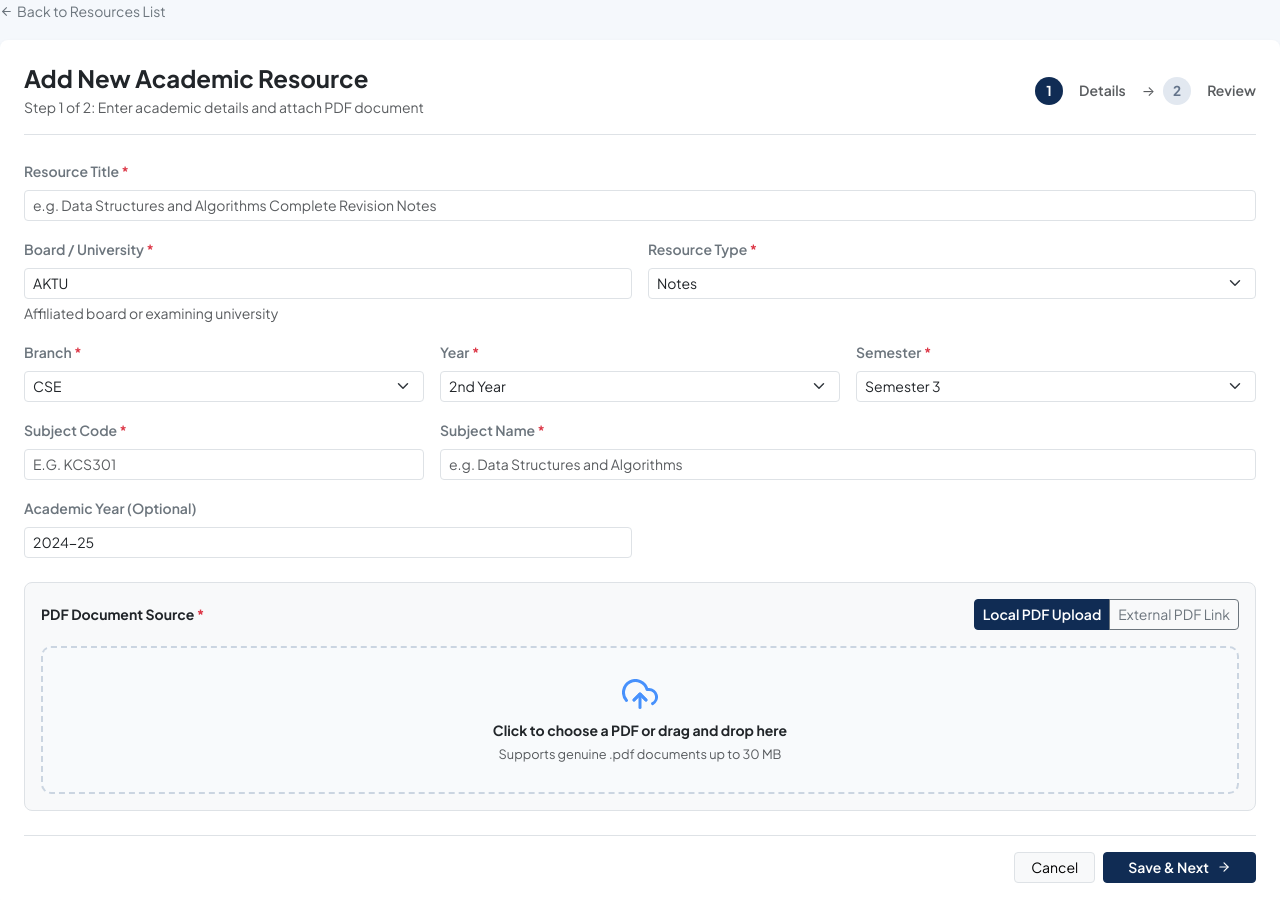
Scenario: Admin Panel Layout & Workflows › E: AdminResourceFormPage Two-Step Workflow › validates Step 1 and transitions to Step 2 Review when fields are filled
Note: Fill in required fields
Type "Computer Networks Full Notes" into the field labelled "Resource Title *".
click(640, 205); type("Computer Networks Full Notes")  # box [24,190,1256,221]
Type "KCS603" into the field labelled "Subject Code *".
click(224, 464); type("KCS603")  # box [24,449,424,480]
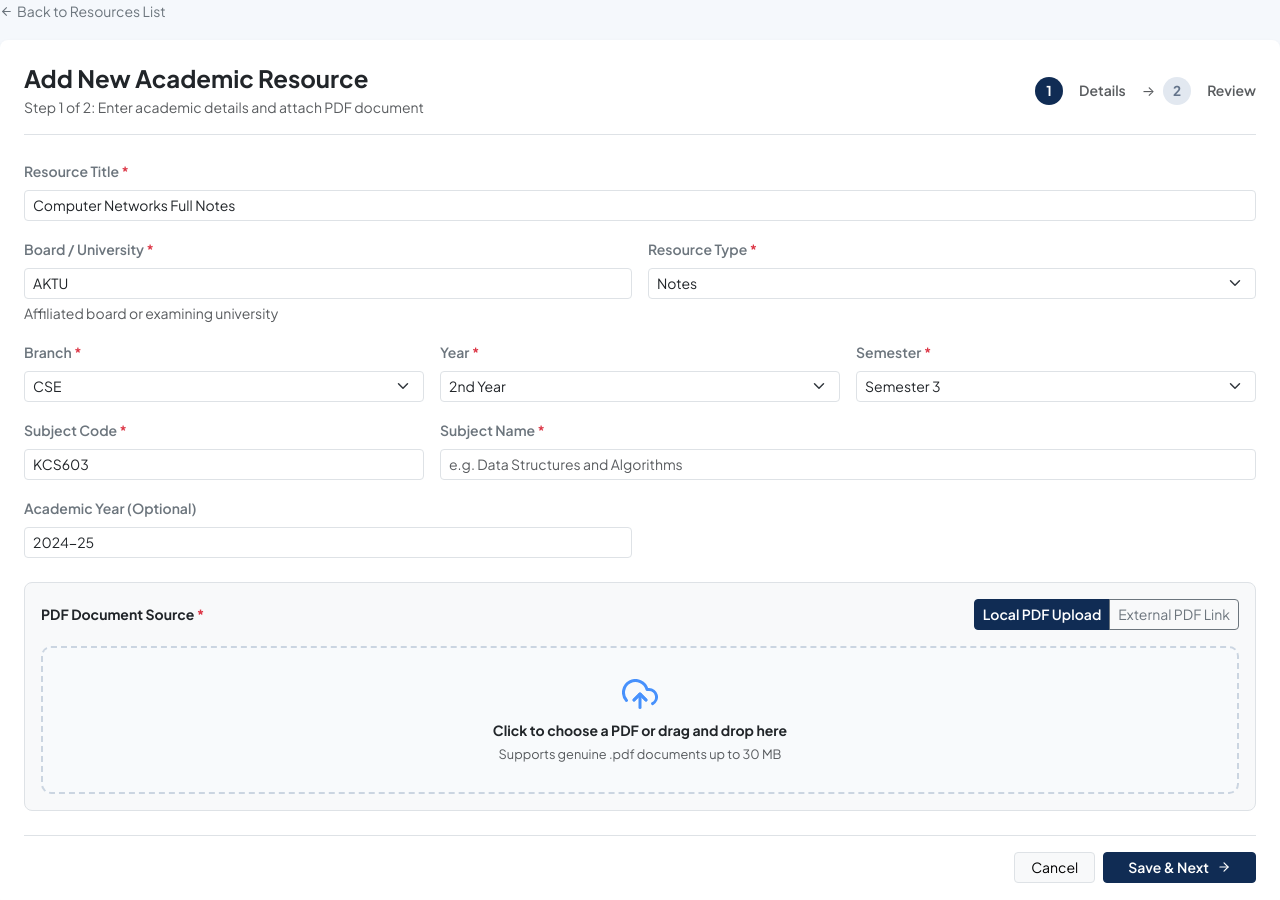
Type "Computer Networks" into the field labelled "Subject Name *".
click(848, 464); type("Computer Networks")  # box [440,449,1256,480]
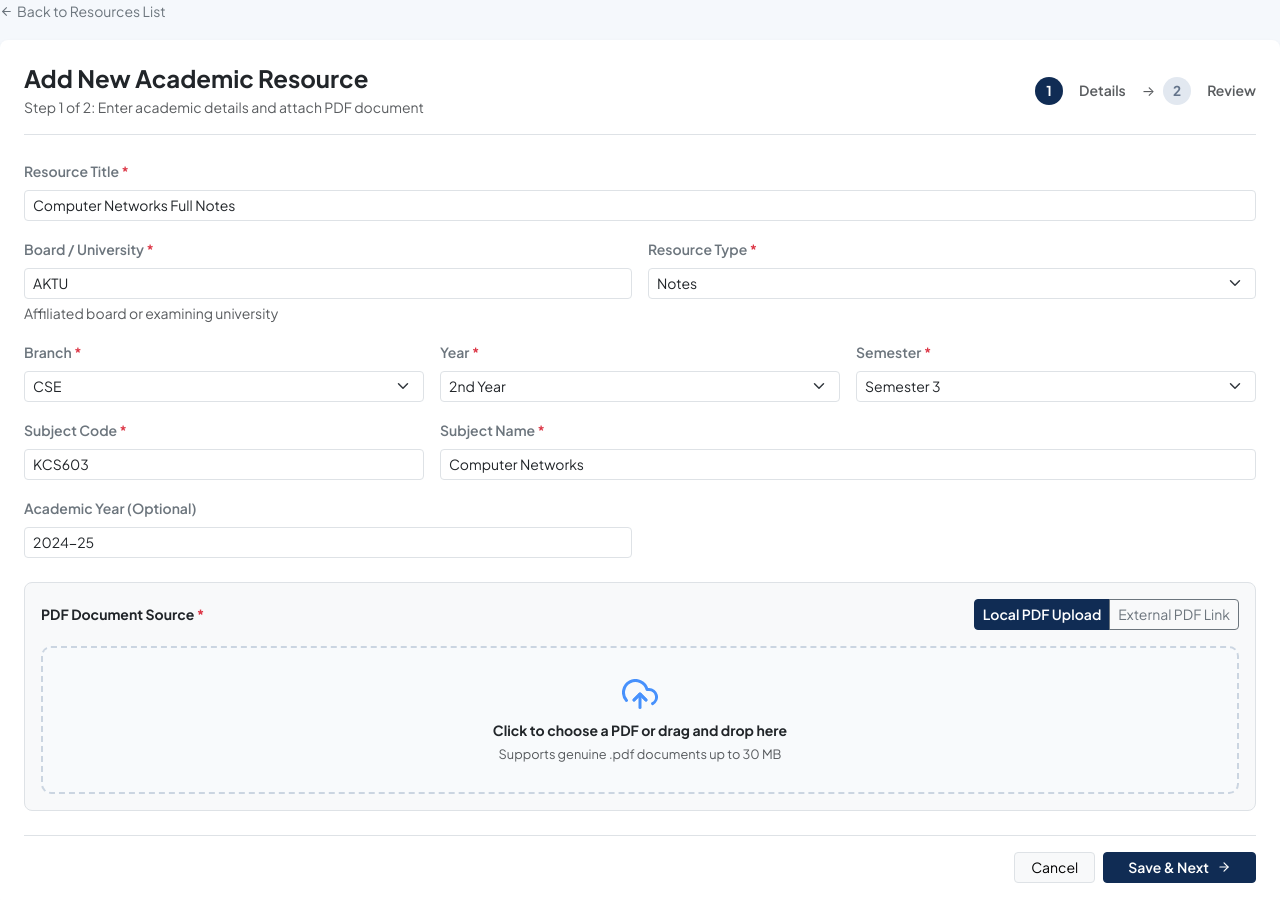
Note: Switch to external URL mode for easy test without real file upload
Click the button "External PDF Link".
click(1174, 614)  # box [1109,599,1239,630]
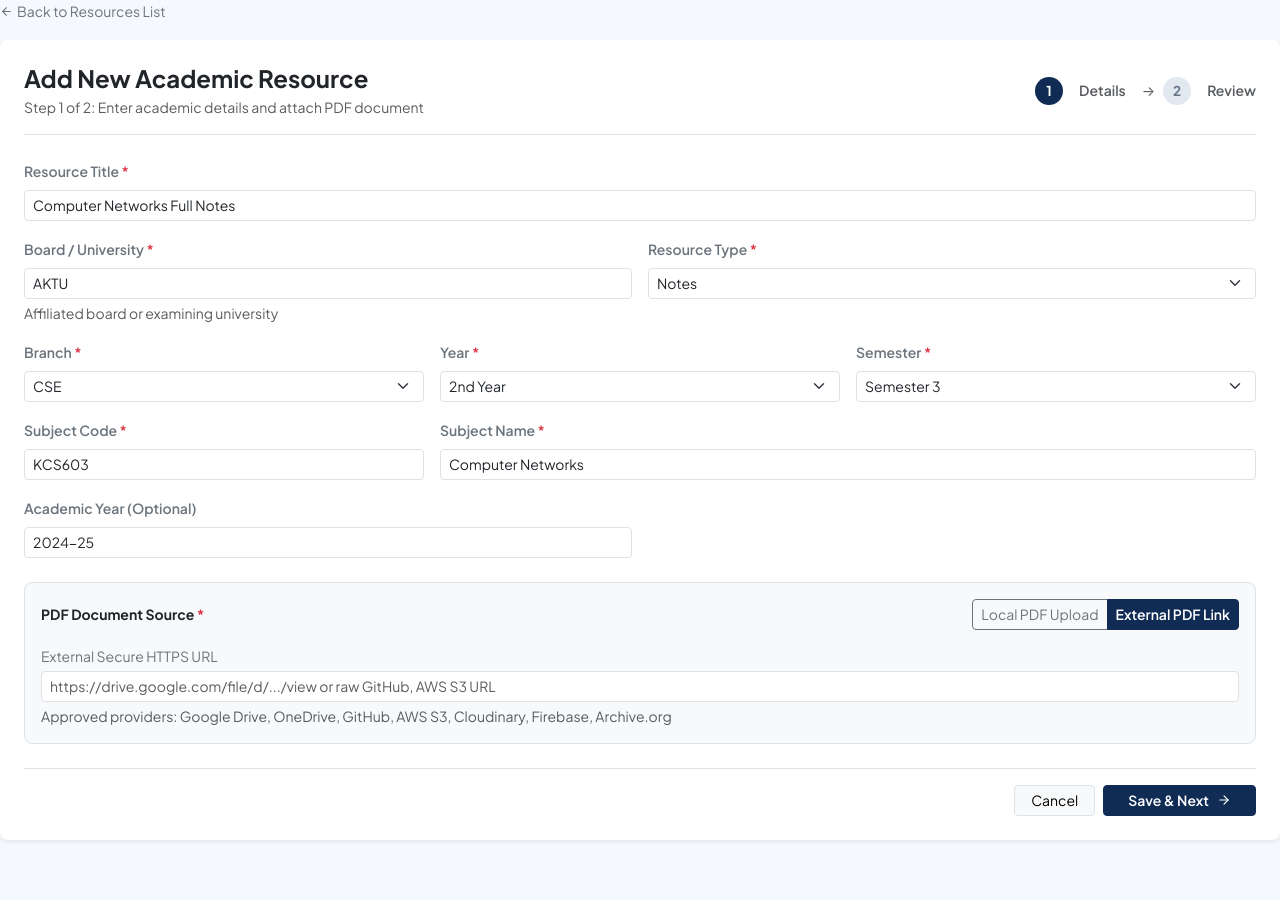
Replace the text in the field labelled "External Secure HTTPS URL" with "https://raw.githubusercontent.com/aktu/notes.pdf" at {"x": 640, "y": 686}, box [41,671,1239,702]
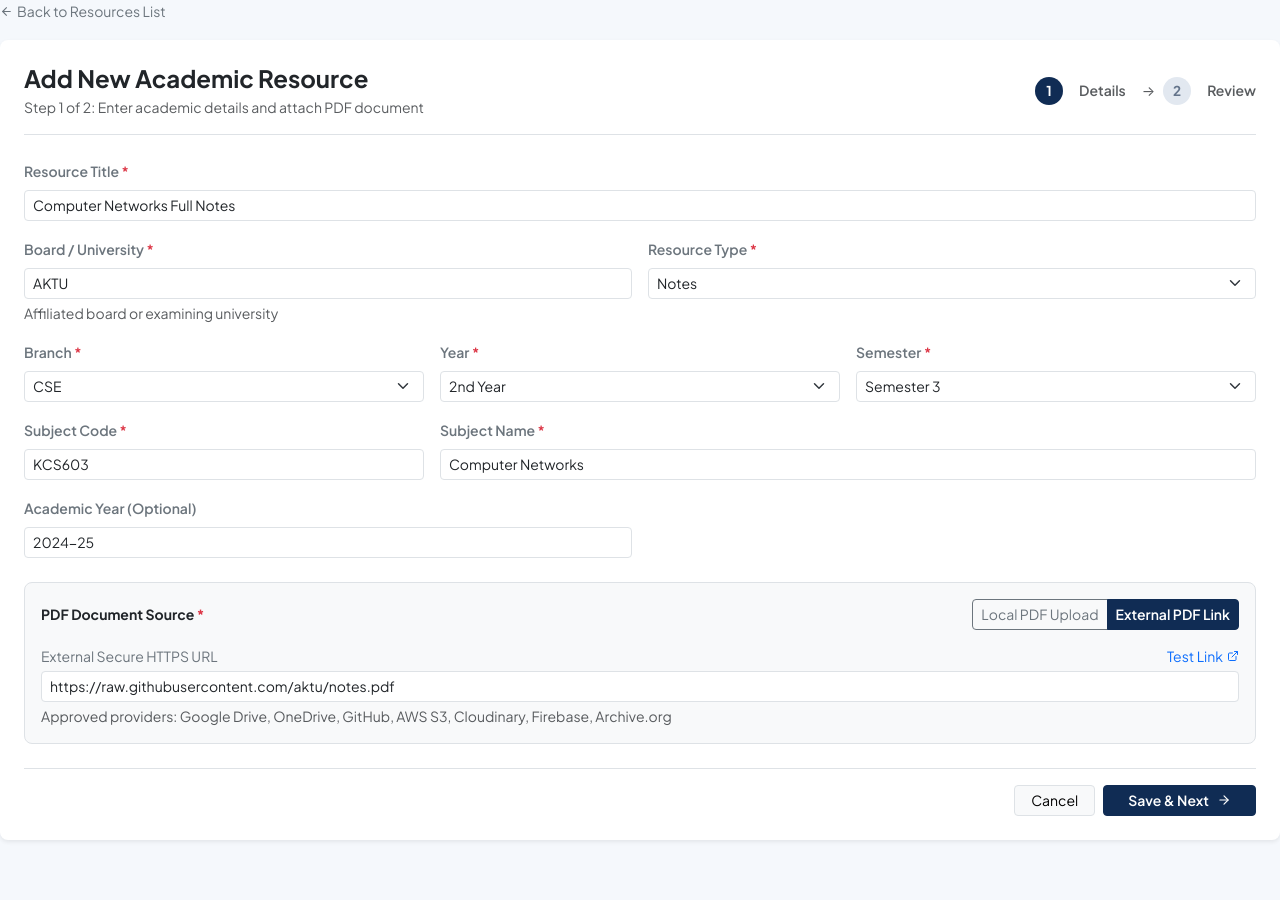
Note: Click "Save & Next"
Click the button "Save & Next".
click(1180, 800)  # box [1103,785,1256,816]
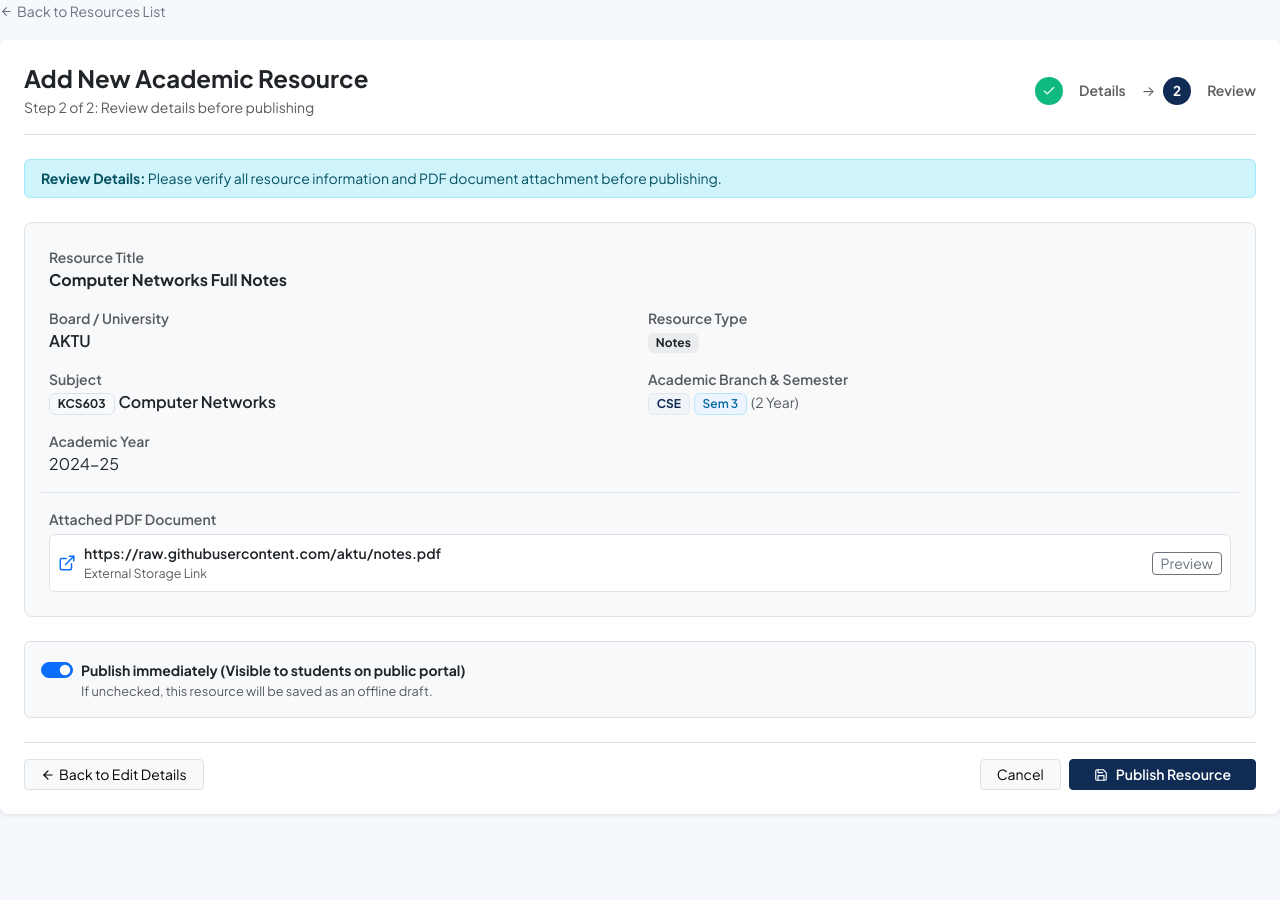
Result: the text "Review Details:" is shown at [41,169,146,187]
Result: the text "Computer Networks Full Notes" is shown at [49,269,287,290]
Result: the button "Back to Edit Details" is shown
Note: Clicking Back preserves all entered data
Click the button "Back to Edit Details".
click(114, 775)  # box [24,759,204,790]
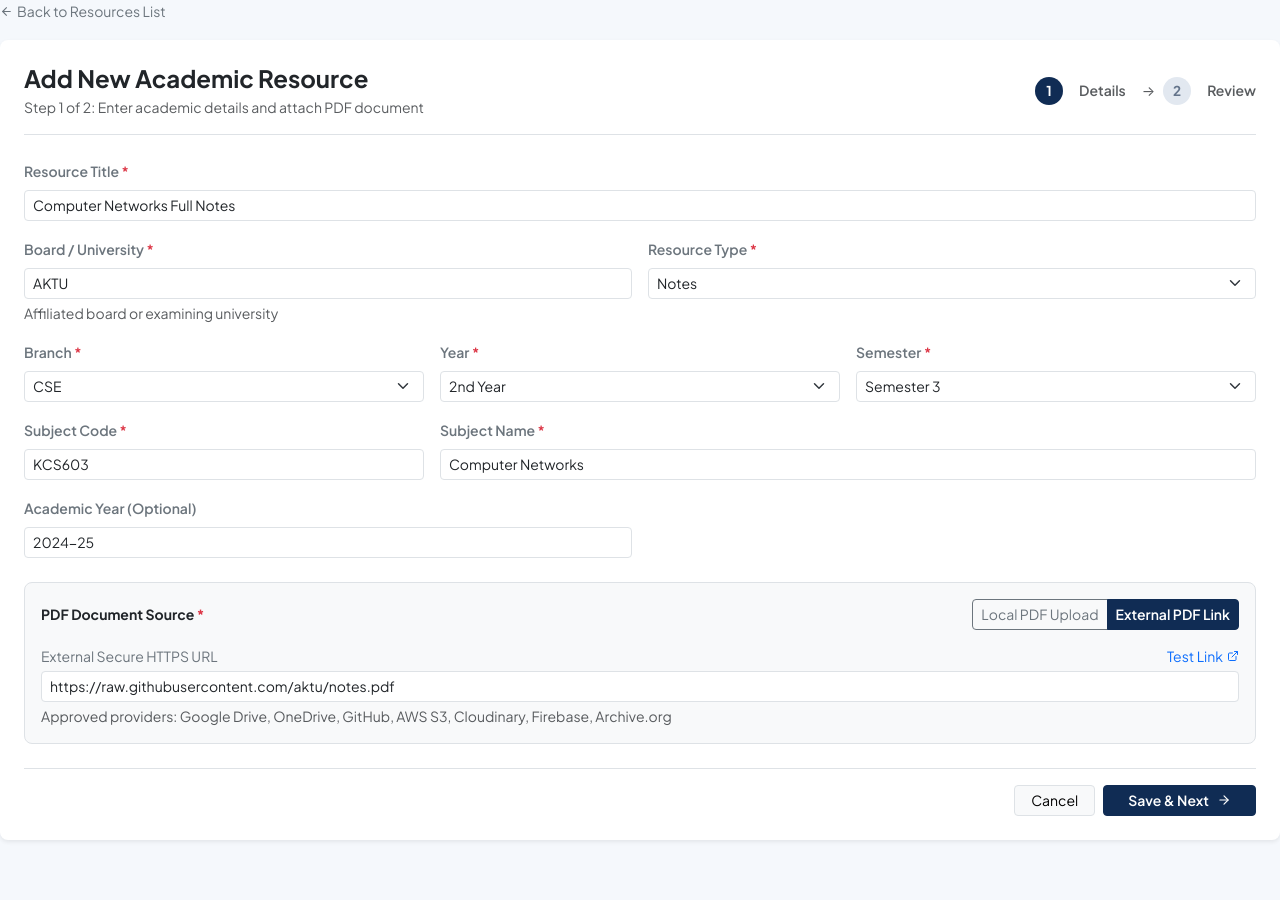
Result: the field labelled "Resource Title *" holds "Computer Networks Full Notes" at [24,190,1256,221]
Result: the field labelled "Subject Code *" holds "KCS603" at [24,449,424,480]
